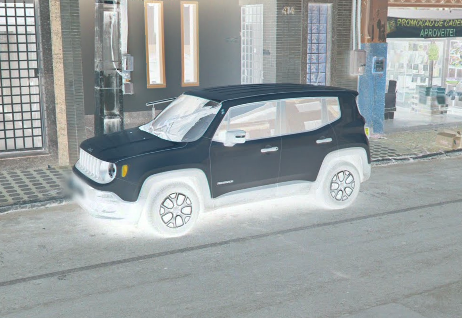car: (63, 79, 383, 237)
